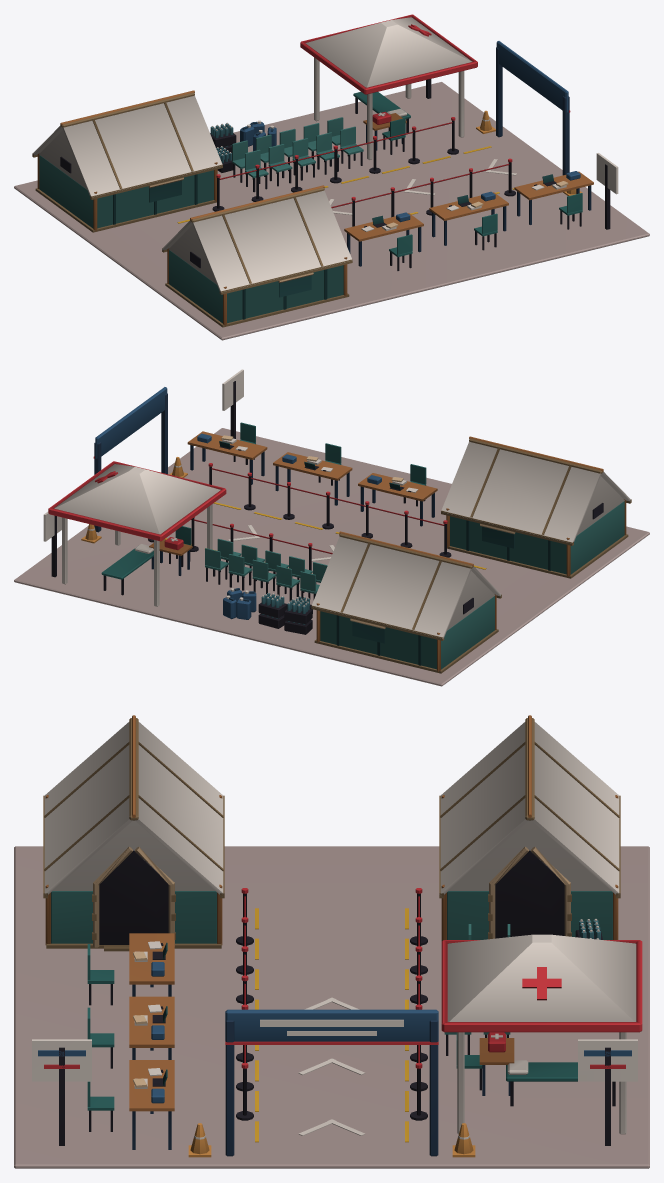
The picture shows the model from 3 angles, top to bottom: view 1: azimuth 30°, elevation 25°; view 2: azimuth 150°, elevation 25°; view 3: azimuth 270°, elevation 25°; orthographic projection. The views are drawn at different scales.
Visible parts, largest first — view 1: body_pal_picketWhite; view 2: body_pal_picketWhite; view 3: body_pal_picketWhite.
Boxes of the visible parts, x1,y1,x2,y2 form: body_pal_picketWhite: (14, 14, 649, 340); body_pal_picketWhite: (14, 369, 649, 686); body_pal_picketWhite: (14, 715, 649, 1168).
Bounding box in the file's own units: 12.6 × 3.03 × 10.6.
